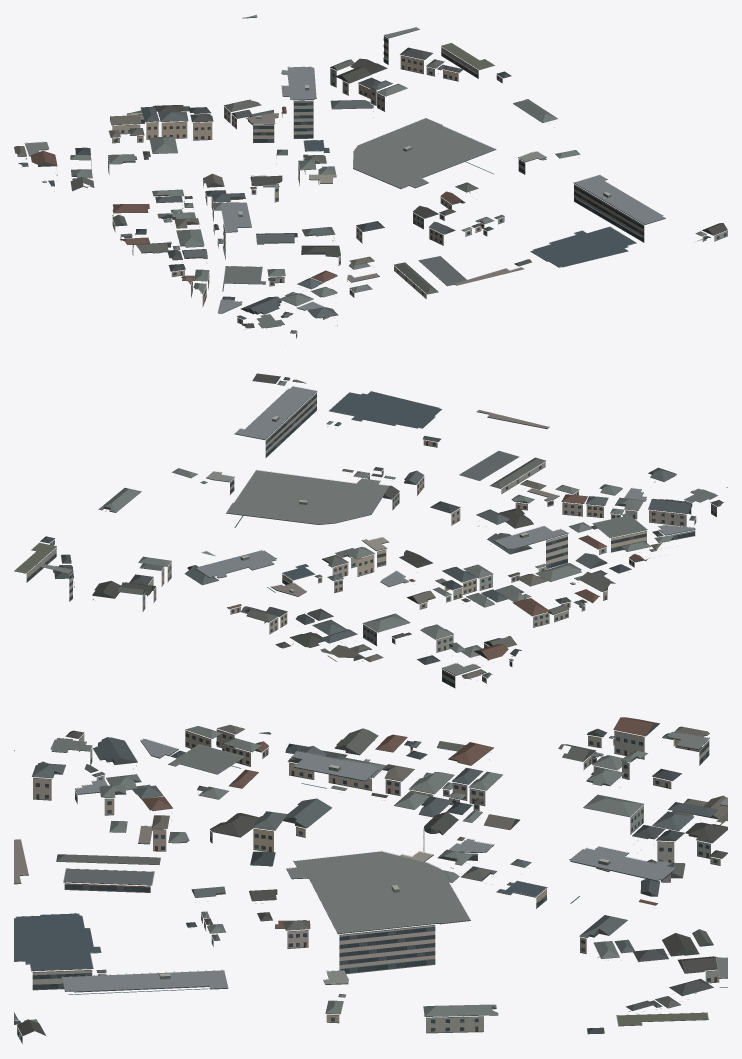
3 renders of one model, top to bottom at view 1: azimuth 30°, elevation 25°; view 2: azimuth 150°, elevation 25°; view 3: azimuth 270°, elevation 25°, orthographic. The views are drawn at different scales.
Parts seen in each view (by area): view 1: r5-c3; view 2: r5-c3; view 3: r5-c3.
Boxes of the visible parts, x1,y1,x2,y2 form: r5-c3: [14, 14, 727, 338]; r5-c3: [14, 373, 727, 688]; r5-c3: [14, 717, 727, 1043].
Size of the model in its own units: 250 by 42.61 by 250.
